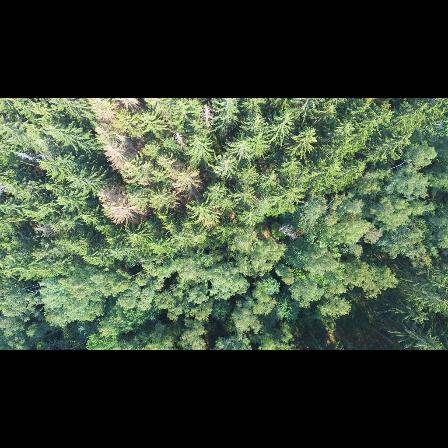Dead: (95, 186, 138, 224), (104, 132, 136, 174), (278, 225, 299, 240)
